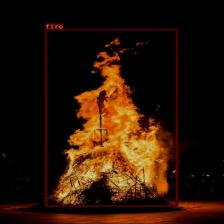fire: (45, 28, 177, 207)
